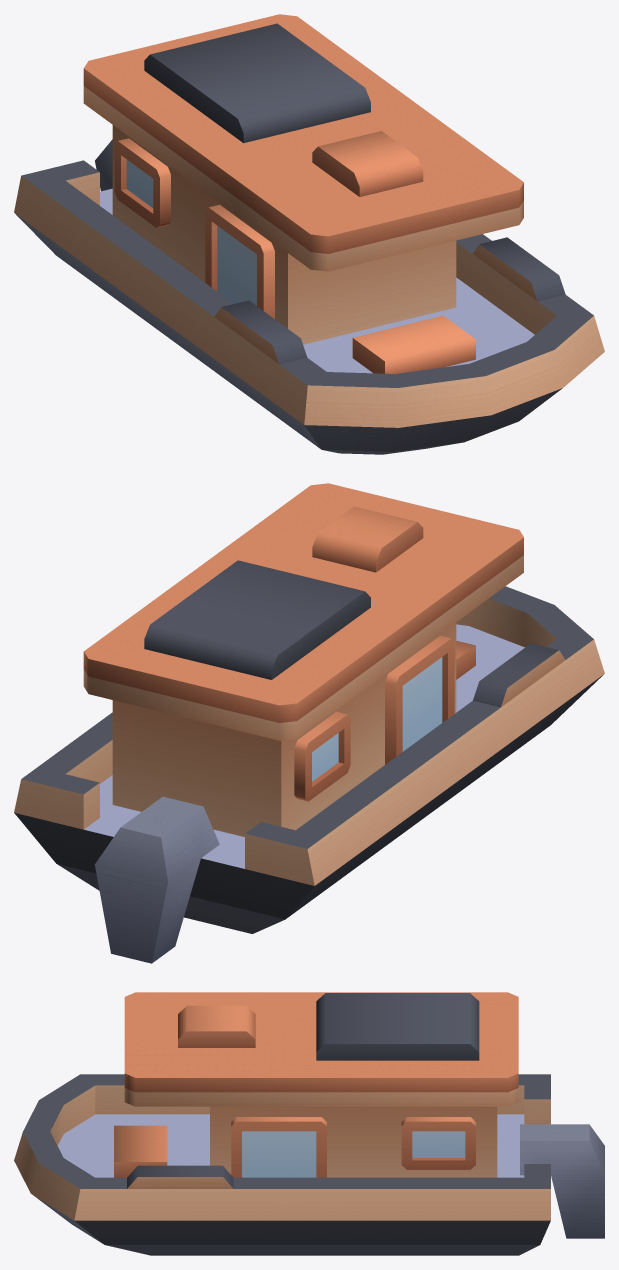
File: boat-house-b.glb
3 views of the same model, one above another, from view 1: azimuth 30°, elevation 25°; view 2: azimuth 150°, elevation 25°; view 3: azimuth 270°, elevation 25° (orthographic). The views are drawn at different scales.
Parts seen in each view (by area): view 1: boat-house-b; view 2: boat-house-b; view 3: boat-house-b.
Part boxes in pixels (bbox=[...]): boat-house-b: bbox=[14, 14, 604, 454]; boat-house-b: bbox=[14, 483, 604, 963]; boat-house-b: bbox=[14, 992, 604, 1255].
Bounding box in the file's own units: 9.1 × 7.47 × 18.88.
1 material, 1 textured.
